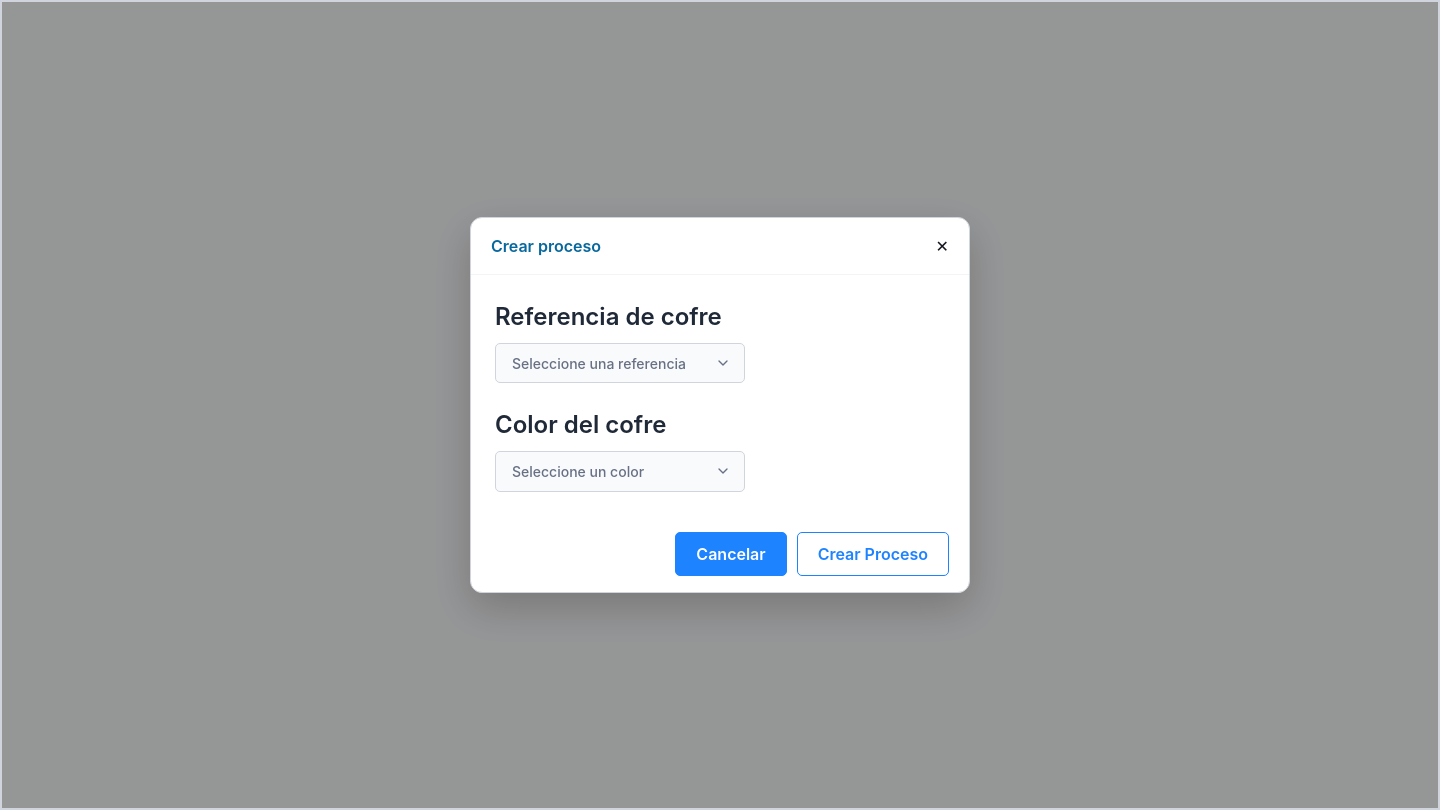
Scenario: Test Caja Blanca - Crear Proceso › CP-1.3: Debe mostrar mensaje de error si la API falla
Click the button named "Referencia de cofre": {"x": 620, "y": 363} top-left (495, 343), bottom-right (745, 383)
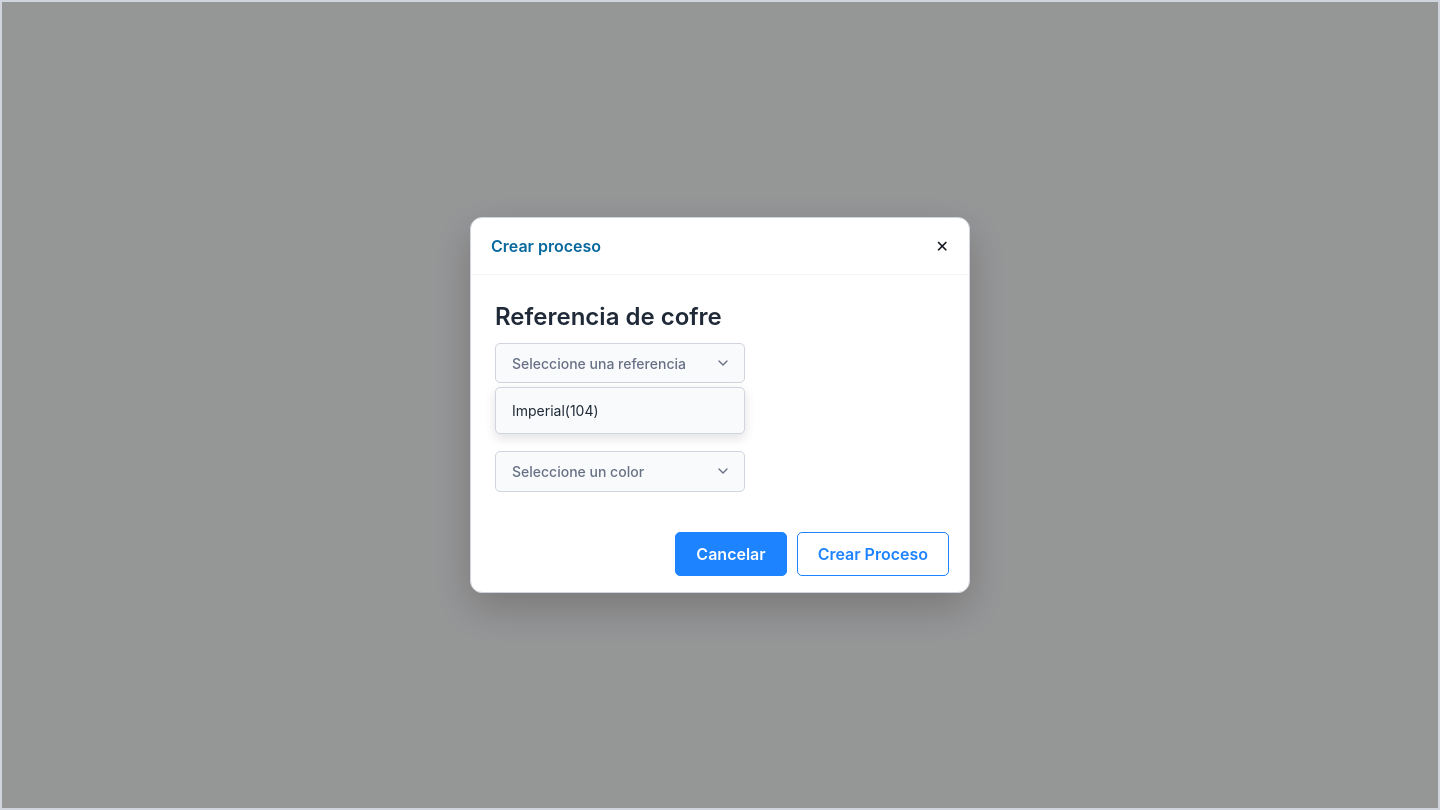
Click the option "Imperial(104)": {"x": 555, "y": 411} top-left (512, 402), bottom-right (599, 419)
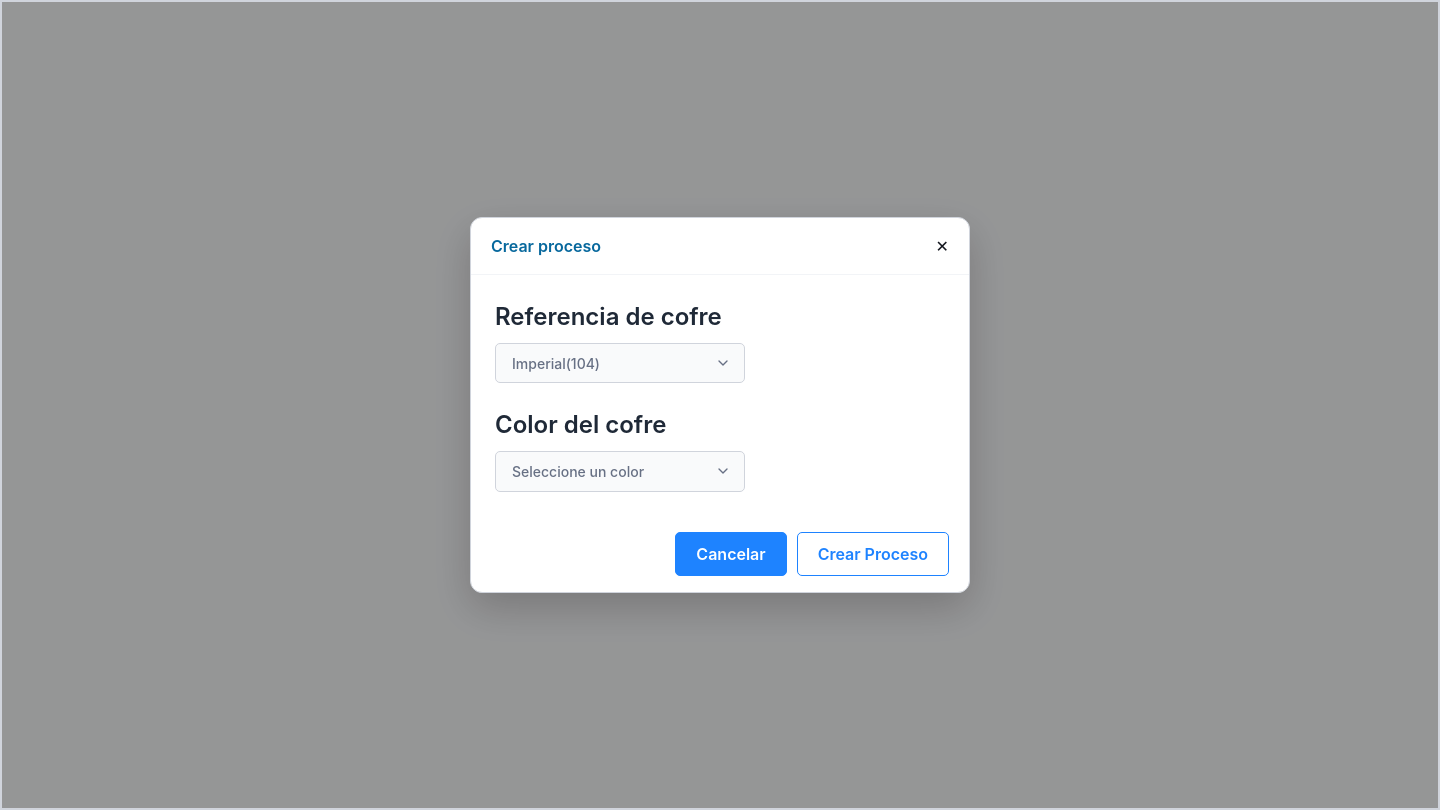
Click the button named "Color del cofre": {"x": 620, "y": 471} top-left (495, 451), bottom-right (745, 492)
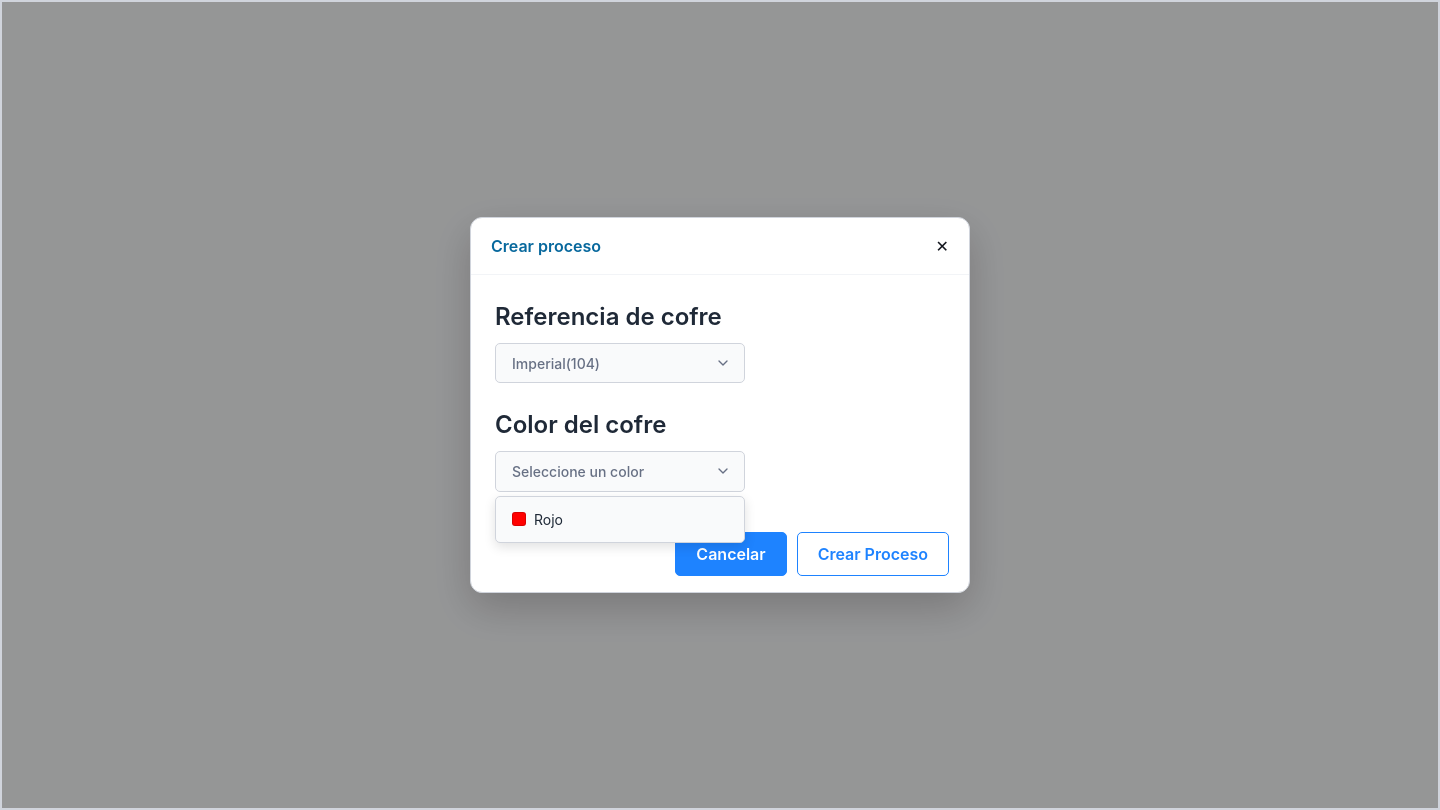
Click the option "Rojo": {"x": 538, "y": 519} top-left (512, 511), bottom-right (563, 528)
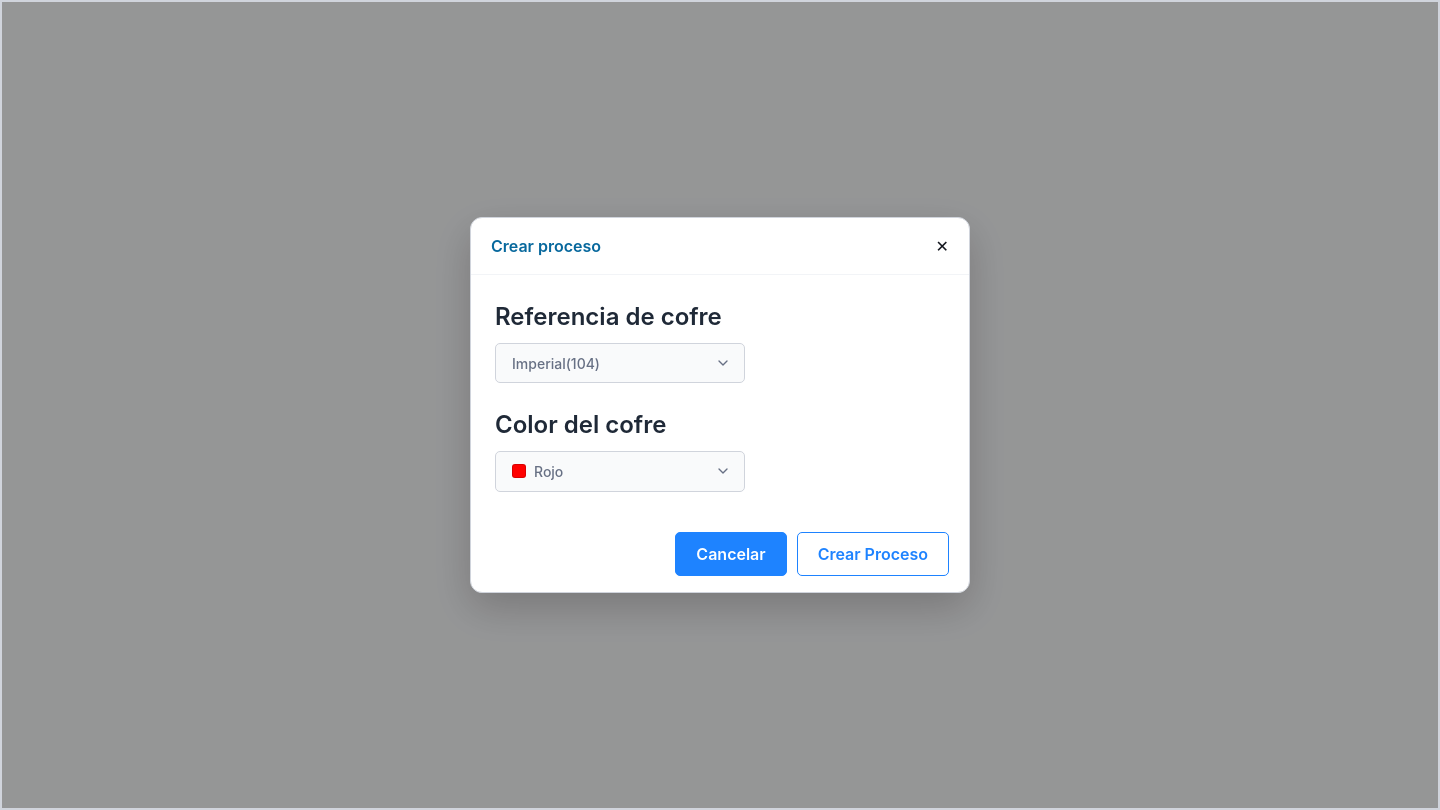
Click the button "Crear Proceso": {"x": 873, "y": 554} top-left (797, 532), bottom-right (949, 576)
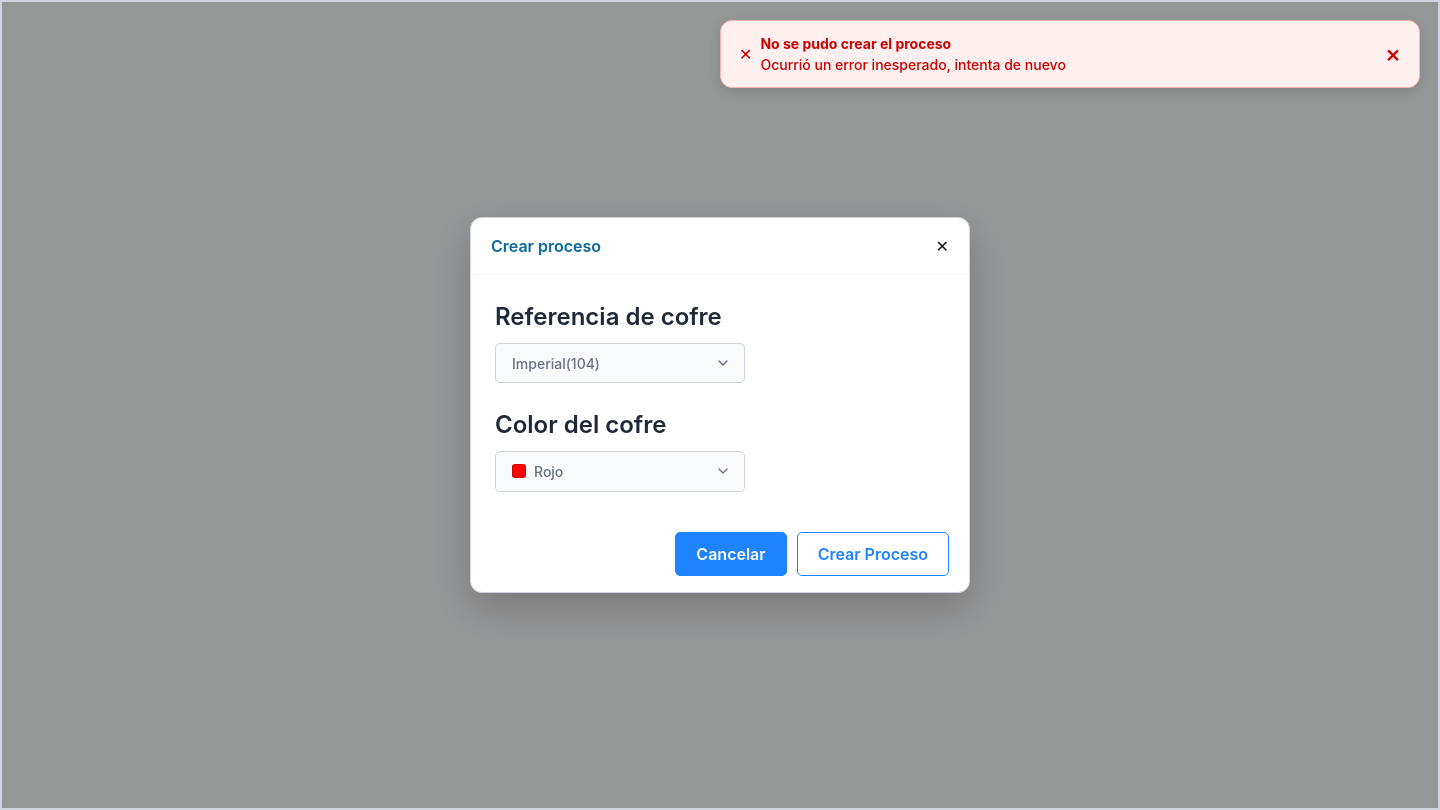
expect the text "Ocurrió un error inesperado" is shown: met, box top-left (760, 56), bottom-right (1066, 73)
